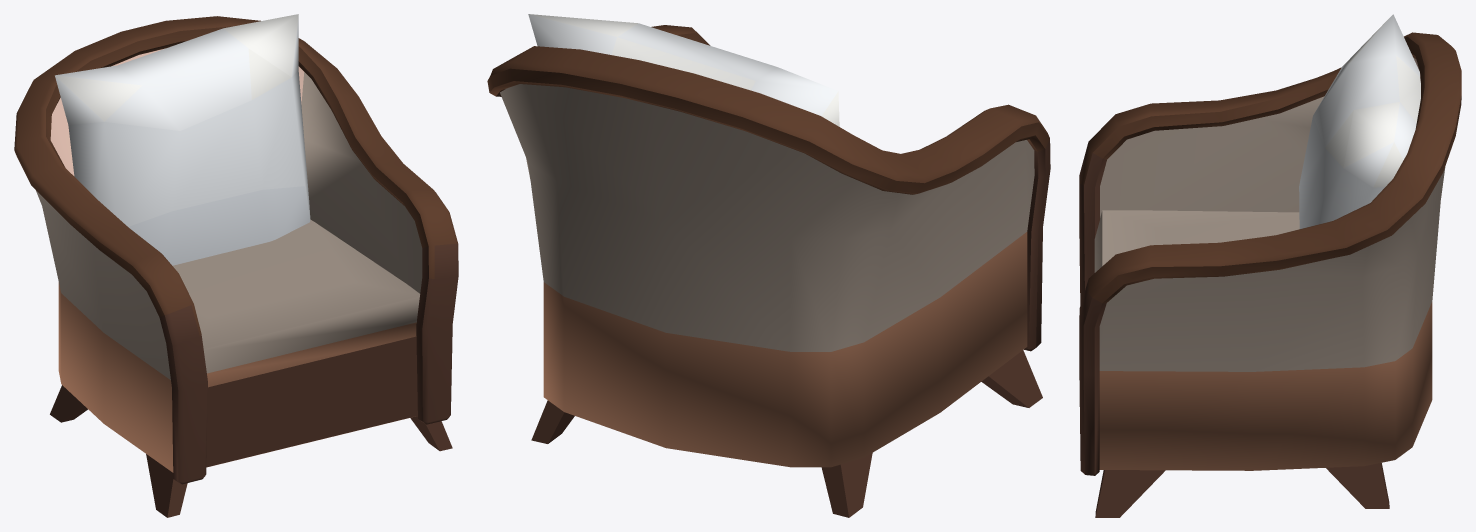
The model's file is poltrona_leitura_xadrez_pacote.glb.
3 renders of one model, left to right at view 1: azimuth 30°, elevation 25°; view 2: azimuth 150°, elevation 25°; view 3: azimuth 270°, elevation 25°, orthographic. The views are drawn at different scales.
Visible parts, largest first — view 1: poltrona_leitura_xadrez_pacote; view 2: poltrona_leitura_xadrez_pacote; view 3: poltrona_leitura_xadrez_pacote.
Part boxes in pixels (x1,y1,x2,y2): poltrona_leitura_xadrez_pacote: [14, 14, 458, 517]; poltrona_leitura_xadrez_pacote: [487, 14, 1050, 517]; poltrona_leitura_xadrez_pacote: [1079, 14, 1461, 517].
Size of the model in its own units: 0.9333 by 0.9189 by 0.8636.
1 material, 1 textured.
